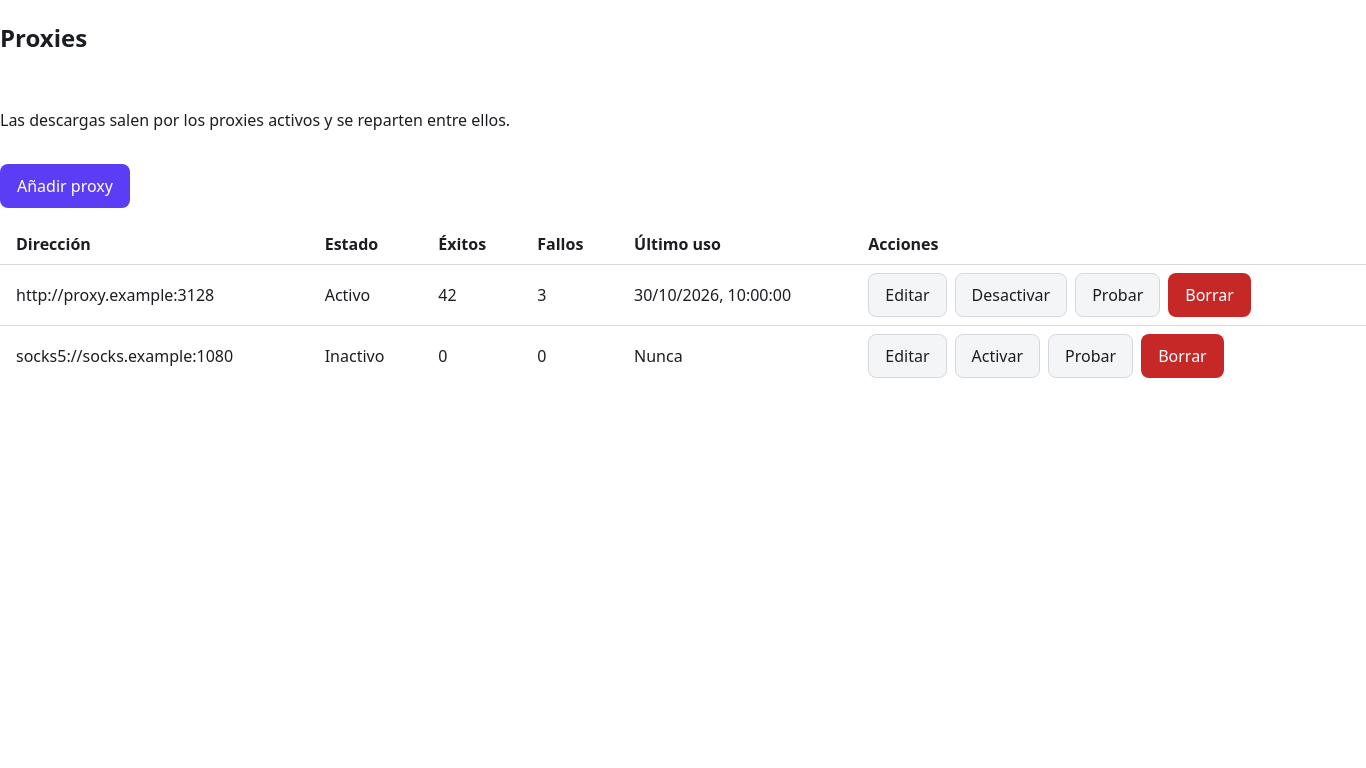
Test: ProxiesView › añade un proxy y recarga la lista
Click the button "Añadir proxy".
click(65, 186)  # box x1=0 y1=164 x2=130 y2=208
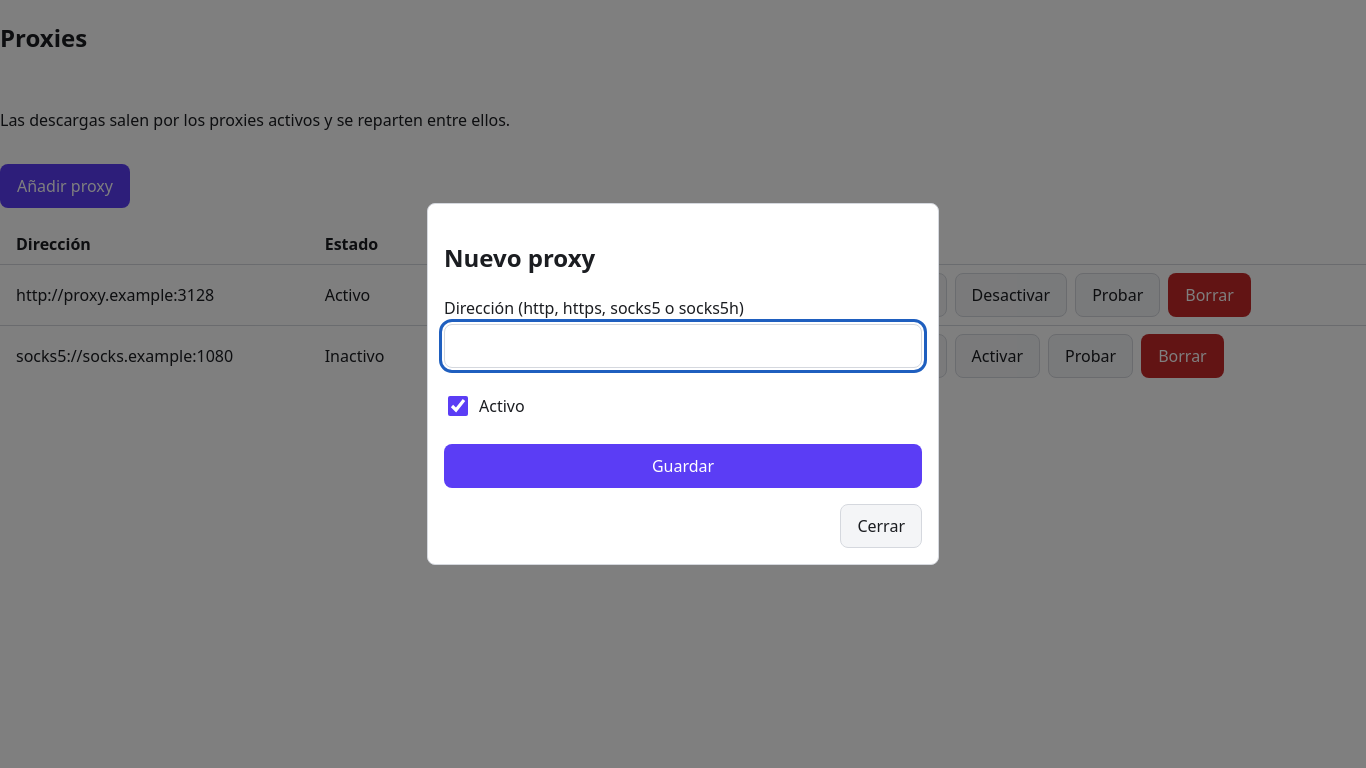
Now the heading "Nuevo proxy" is shown, box x1=444 y1=241 x2=595 y2=274
Type "https://nuevo.example:8080" into the field labelled "Dirección (http, https, socks5 o socks5h)".
click(683, 346); type("https://nuevo.example:8080")  # box x1=444 y1=324 x2=922 y2=368
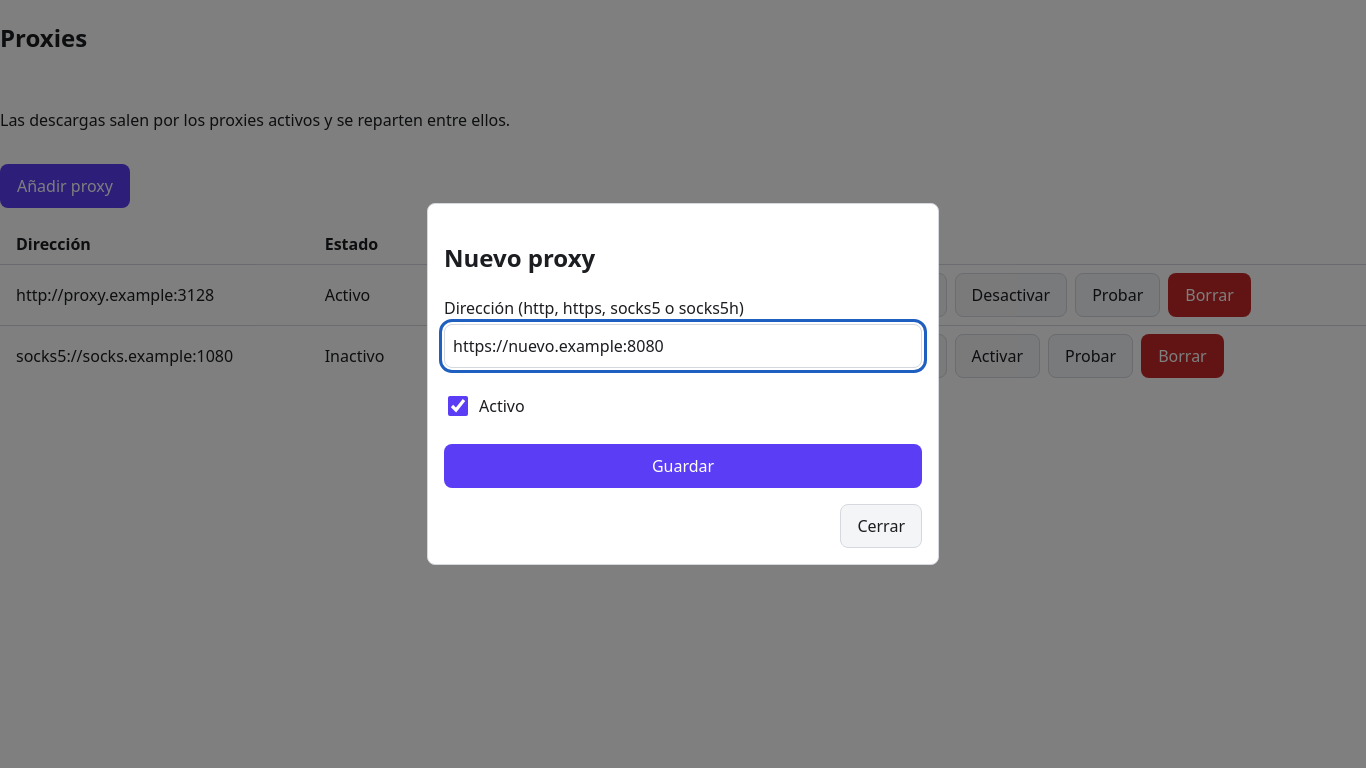
Submit the form named "proxy", box x1=444 y1=296 x2=922 y2=488
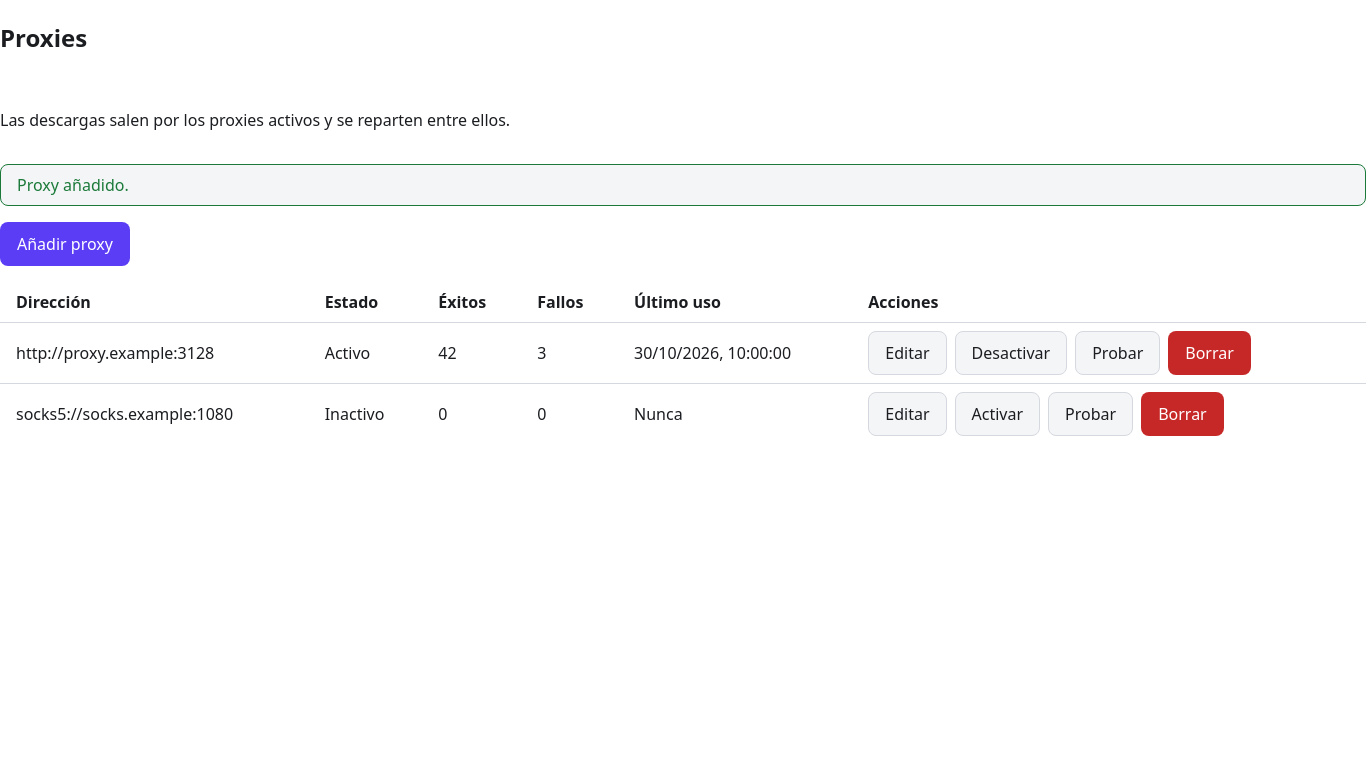
Now the message "Proxy añadido." is shown, box x1=0 y1=164 x2=1365 y2=206
